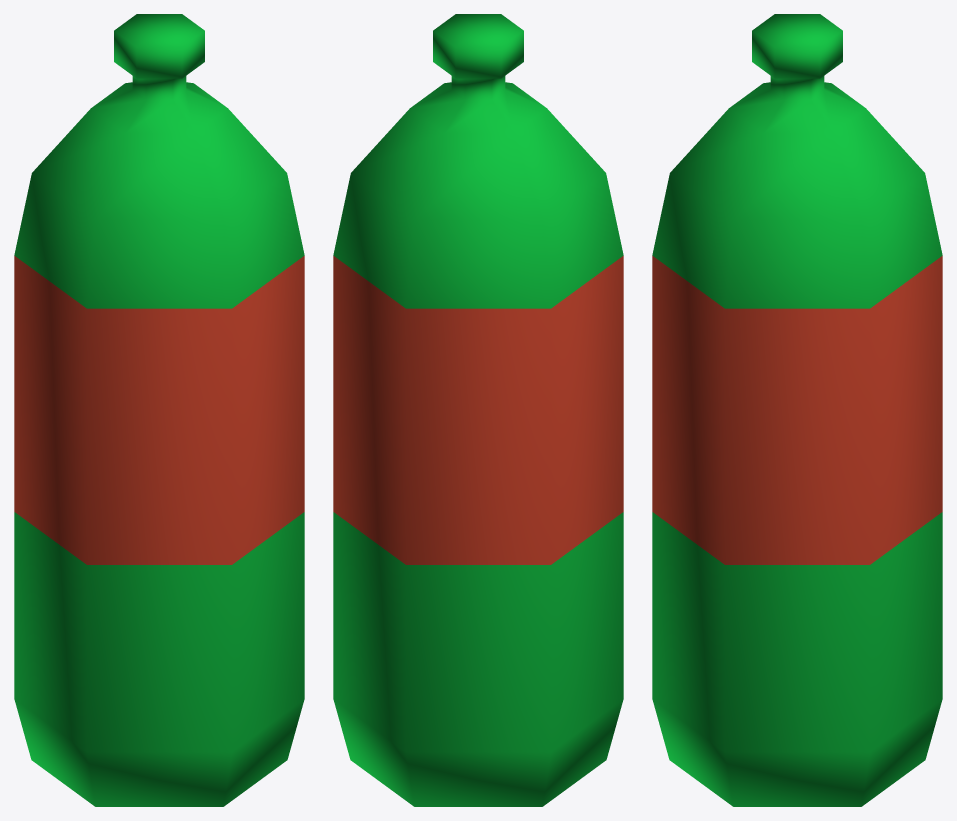
Rendered from Garrafa Pet.fbx.
3 views of the same model, side by side, from view 1: azimuth 30°, elevation 25°; view 2: azimuth 150°, elevation 25°; view 3: azimuth 270°, elevation 25° (orthographic).
Visible parts, largest first — view 1: Garrafa Pet; view 2: Garrafa Pet; view 3: Garrafa Pet.
Boxes of the visible parts, box(x1,y1,x2,y2) form: Garrafa Pet: box(14, 14, 304, 806); Garrafa Pet: box(333, 14, 623, 806); Garrafa Pet: box(652, 14, 942, 806).
Bounding box in the file's own units: 36.76 × 118 × 42.45.
